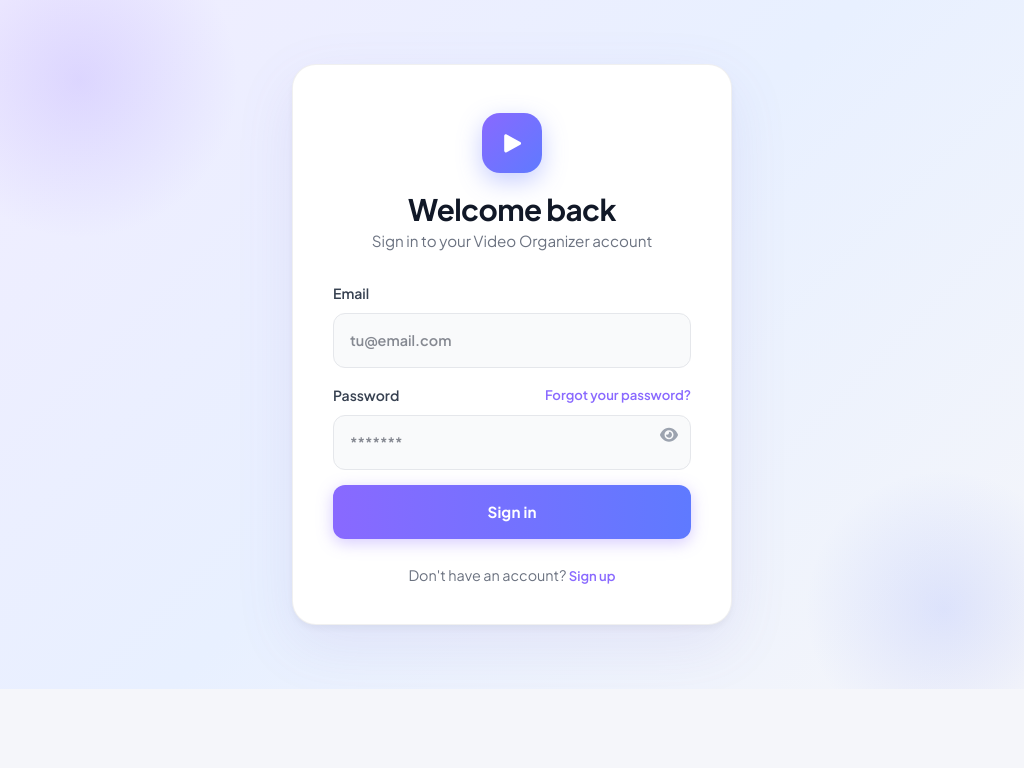
Test: Login component › shows the backend error message when the User is not found
The width and height of the screenshot is (1024, 768).
Type "adsf@asdf.com" into the field labelled "Email" at (512, 340), box x1=333 y1=313 x2=691 y2=368
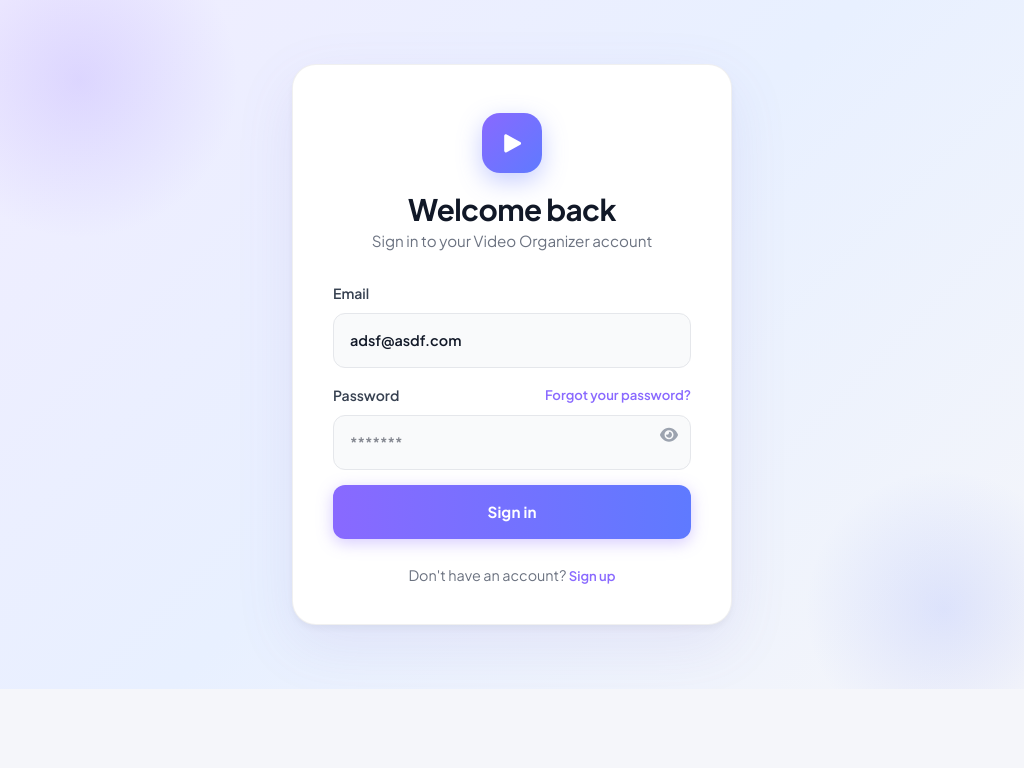
Type "1232141" into the password field labelled "Password" at (512, 442), box x1=333 y1=415 x2=691 y2=470
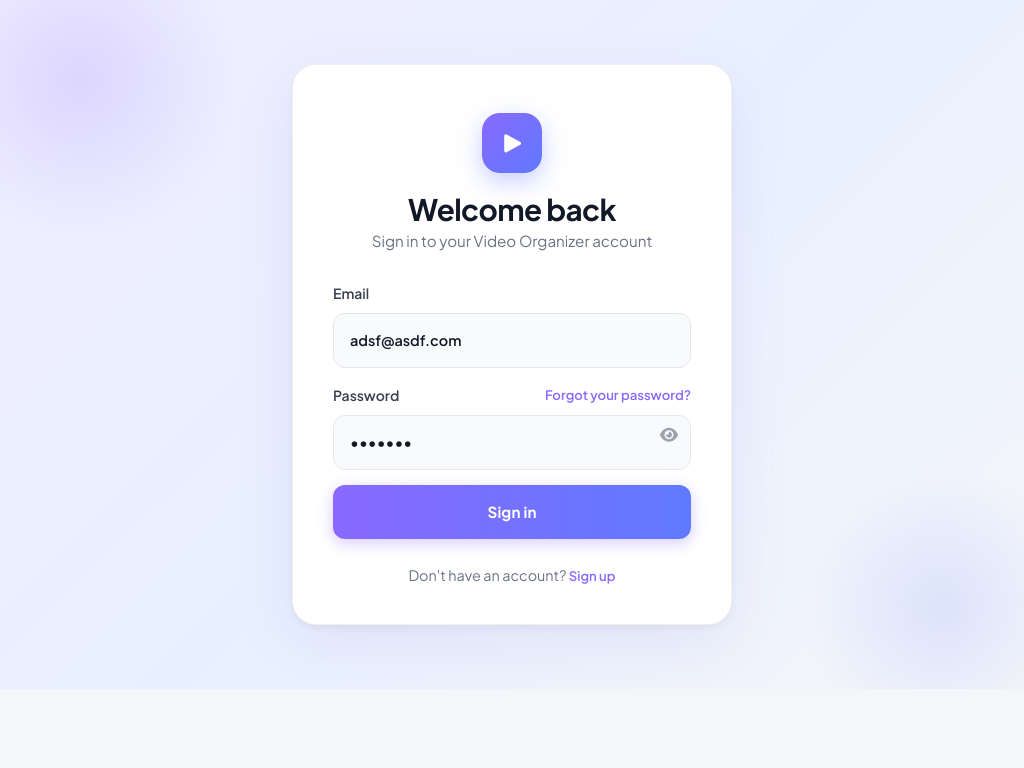
Click the button "Sign in" at (512, 512), box x1=333 y1=485 x2=691 y2=539
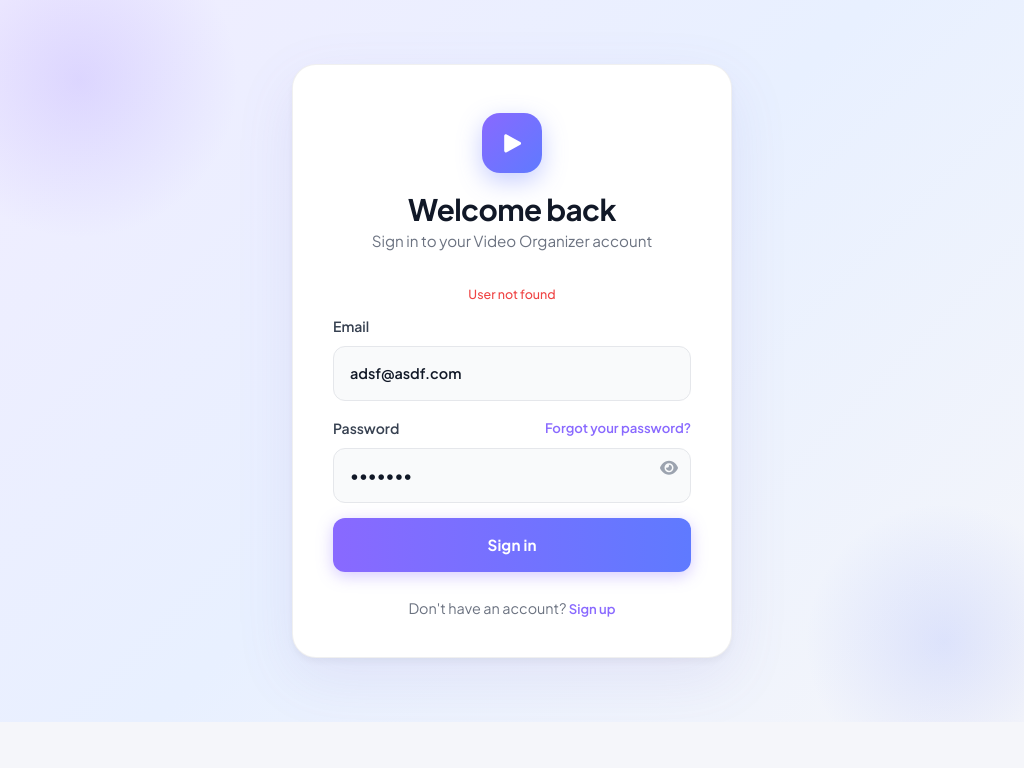
Now the text "User not found" is shown, box x1=468 y1=286 x2=556 y2=302
